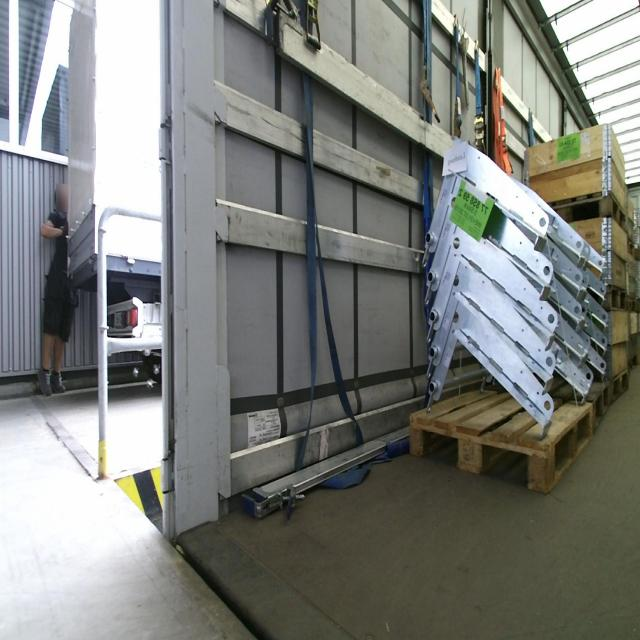pallet: (410, 390, 591, 493), (548, 191, 630, 233), (584, 378, 614, 424), (606, 284, 629, 312), (610, 369, 632, 395), (625, 353, 639, 372), (627, 229, 634, 261), (627, 295, 638, 312)
